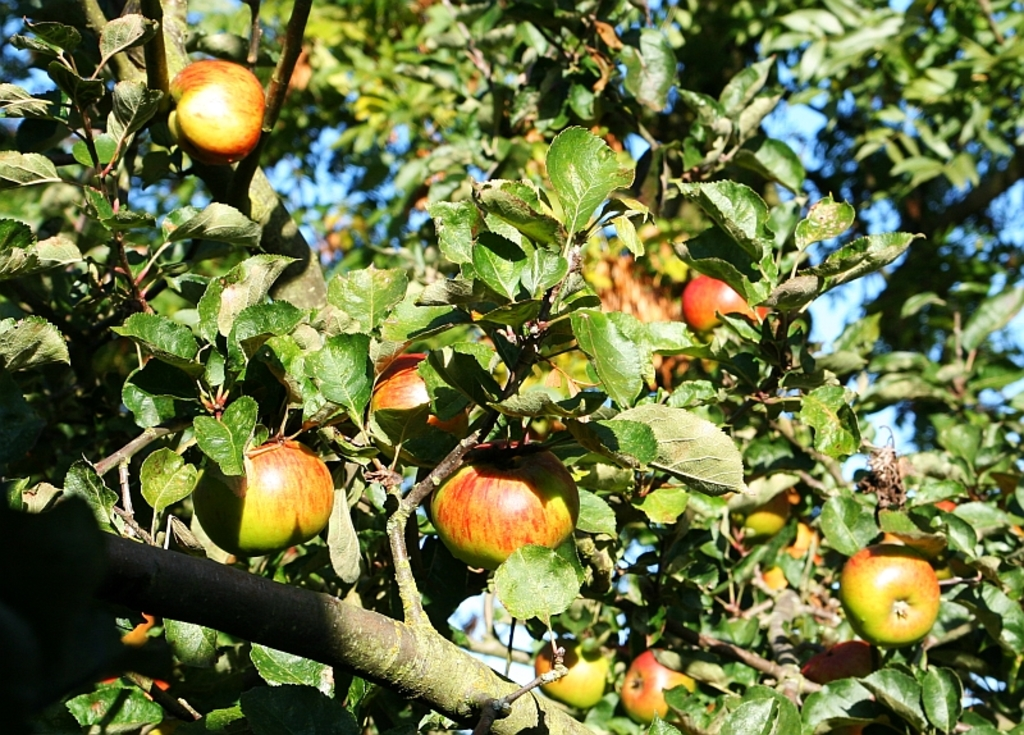Apple: (422, 440, 578, 577), (220, 440, 334, 565), (837, 536, 947, 646), (161, 61, 266, 165), (734, 489, 821, 596), (367, 350, 465, 443), (528, 636, 610, 710), (619, 647, 693, 726), (686, 275, 770, 339)
